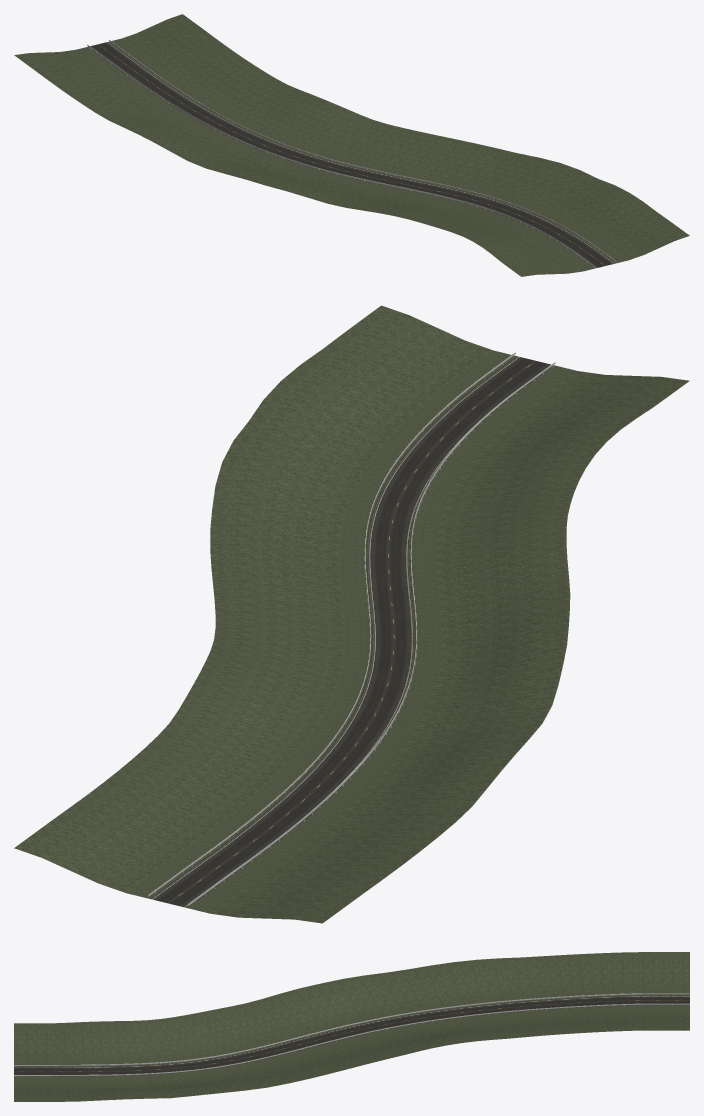
3 renders of one model, top to bottom at view 1: azimuth 30°, elevation 25°; view 2: azimuth 150°, elevation 25°; view 3: azimuth 270°, elevation 25°, orthographic. The views are drawn at different scales.
Parts seen in each view (by area): view 1: Grass, HighWay, GuardRail; view 2: Grass, HighWay, GuardRail; view 3: Grass, HighWay, GuardRail.
Boxes of the visible parts, box(x1,y1,x2,y2) form: Grass: box(14, 14, 689, 276); HighWay: box(88, 41, 615, 268); GuardRail: box(87, 39, 616, 267); Grass: box(14, 305, 689, 923); HighWay: box(149, 356, 554, 907); GuardRail: box(148, 352, 555, 905); Grass: box(14, 952, 689, 1101); HighWay: box(14, 995, 689, 1076); GuardRail: box(14, 993, 689, 1076).
Size of what is drawn, in the model's own units: 210 by 10.89 by 400.
